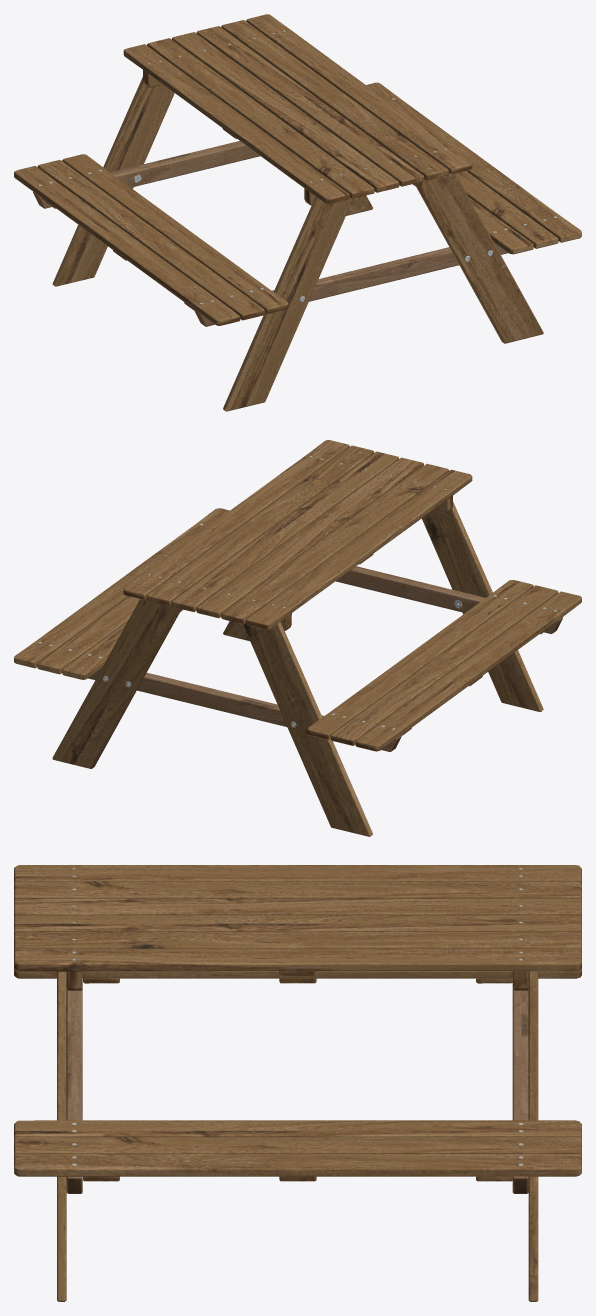
Rendered from reso_awa_ogrodowa_dla_dzieci_70228325.glb.
The picture shows the model from 3 angles, top to bottom: view 1: azimuth 30°, elevation 25°; view 2: azimuth 150°, elevation 25°; view 3: azimuth 270°, elevation 25°; orthographic projection. The views are drawn at different scales.
Parts seen in each view (by area): view 1: reso_awa_ogrodowa_dla_dzieci_70228325; view 2: reso_awa_ogrodowa_dla_dzieci_70228325; view 3: reso_awa_ogrodowa_dla_dzieci_70228325.
Part boxes in pixels (left/top/right/bottom): reso_awa_ogrodowa_dla_dzieci_70228325: left=14, top=14, right=581, bottom=411; reso_awa_ogrodowa_dla_dzieci_70228325: left=14, top=440, right=581, bottom=836; reso_awa_ogrodowa_dla_dzieci_70228325: left=14, top=865, right=581, bottom=1301.
Bounding box in the file's own units: 0.916 × 0.4865 × 0.89.
Materials: 1 (1 with a texture image).
